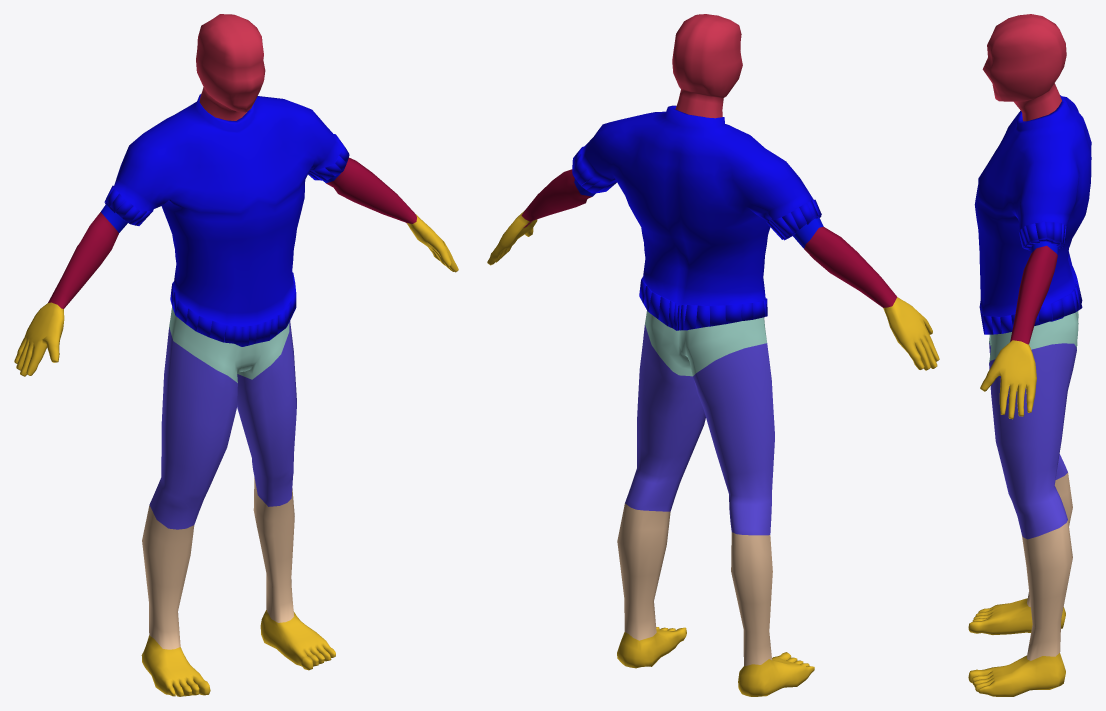
3 renders of one model, left to right at view 1: azimuth 30°, elevation 25°; view 2: azimuth 150°, elevation 25°; view 3: azimuth 270°, elevation 25°, orthographic. The views are drawn at different scales.
Parts seen in each view (by area): view 1: body, body.001; view 2: body, body.001; view 3: body, body.001.
Part boxes in pixels (x1,y1,x2,y2): body: (14,14,458,696); body.001: (104,94,349,346); body: (487,14,939,696); body.001: (572,105,821,330); body: (968,14,1078,696); body.001: (974,95,1091,334).
Size of what is drawn, in the model's own units: 1.24 by 1.75 by 0.3047.
